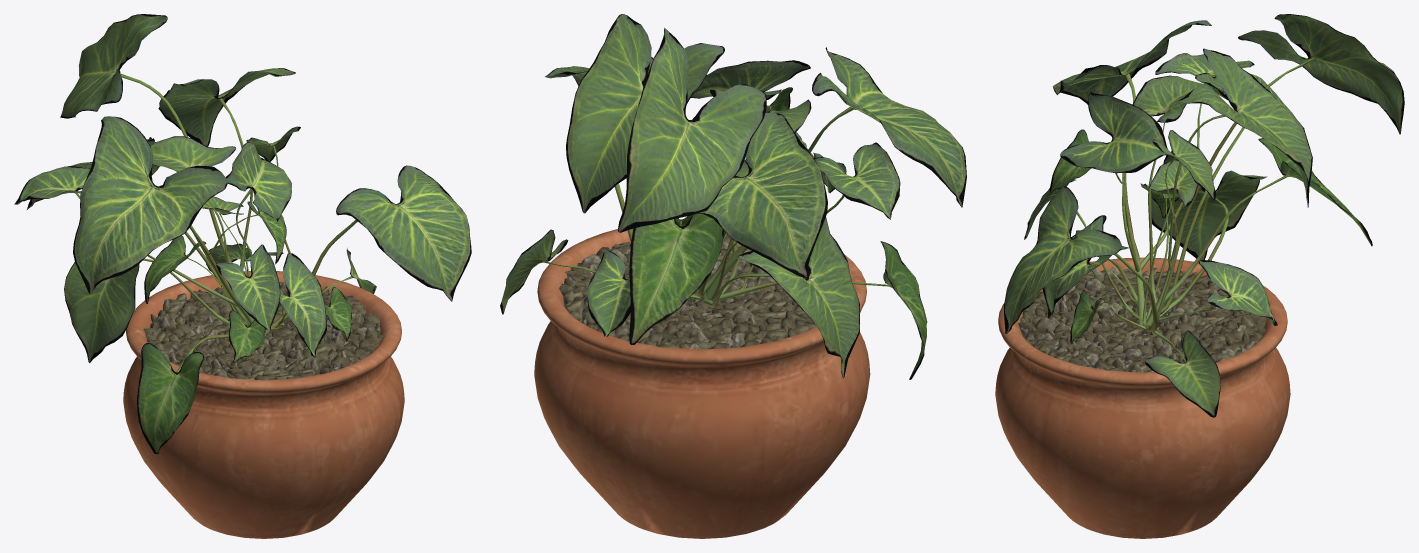
The model's file is potted_plant_02.glb.
The picture shows the model from 3 angles, left to right: view 1: azimuth 30°, elevation 25°; view 2: azimuth 150°, elevation 25°; view 3: azimuth 270°, elevation 25°; orthographic projection. The views are drawn at different scales.
Parts seen in each view (by area): view 1: potted_plant_02_leaves, potted_plant_02_pot; view 2: potted_plant_02_leaves, potted_plant_02_pot; view 3: potted_plant_02_pot, potted_plant_02_leaves.
Boxes of the visible parts, x1,y1,x2,y2 form: potted_plant_02_leaves: (14, 14, 471, 453); potted_plant_02_pot: (123, 271, 404, 538); potted_plant_02_leaves: (500, 14, 966, 379); potted_plant_02_pot: (534, 219, 870, 538); potted_plant_02_pot: (995, 257, 1290, 538); potted_plant_02_leaves: (1004, 14, 1404, 417).
Size of the model in its own units: 0.7009 by 0.8412 by 0.6574.
2 materials, 2 textured.
